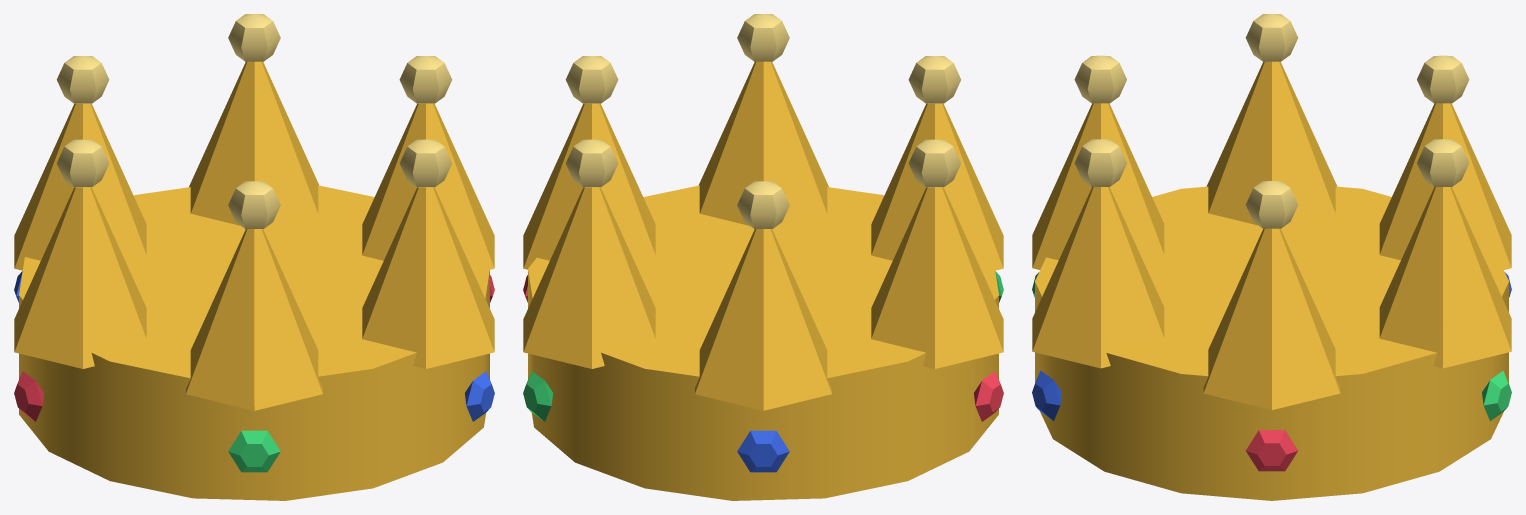
The model's file is Crown.fbx.
The picture shows the model from 3 angles, left to right: view 1: azimuth 30°, elevation 25°; view 2: azimuth 150°, elevation 25°; view 3: azimuth 270°, elevation 25°; orthographic projection.
Visible parts, largest first — view 1: Crown; view 2: Crown; view 3: Crown.
Part boxes in pixels (x1,y1,x2,y2): Crown: (14,14,494,500); Crown: (523,14,1003,500); Crown: (1032,14,1511,500).
Bounding box in the file's own units: 2.1 × 1.27 × 1.82.
Materials: 1 (1 with a texture image).
